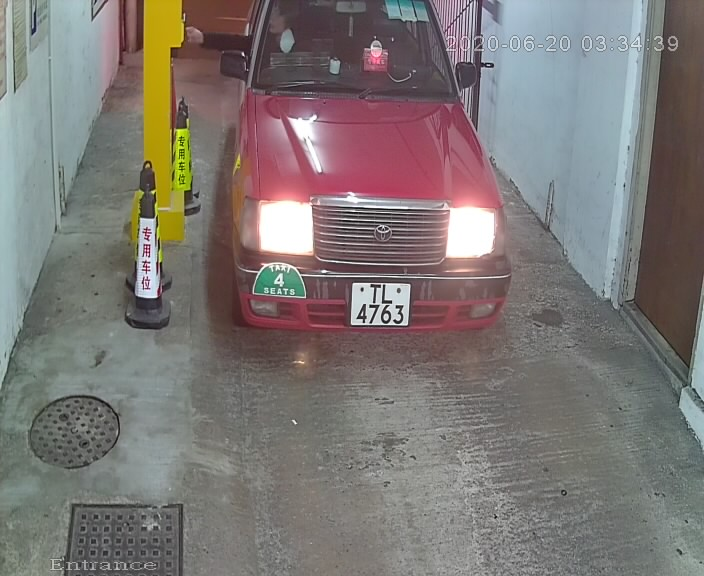taxi: (207, 4, 525, 378)
taxi_mark: (250, 256, 312, 309)
